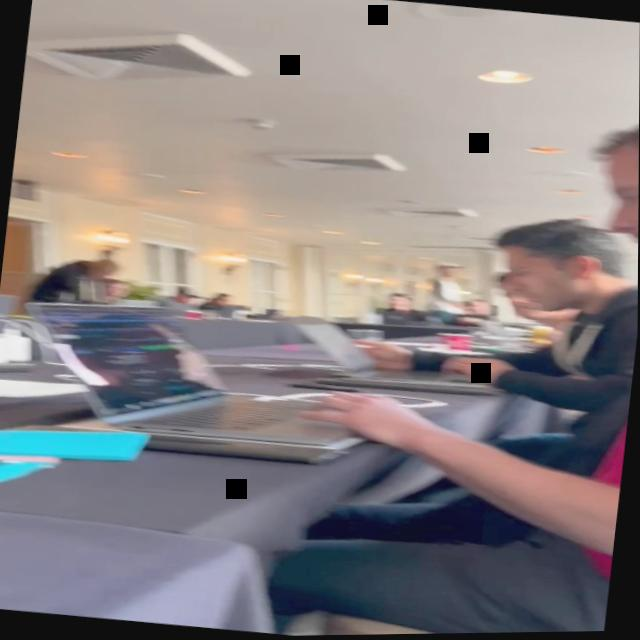NO-Mask: (499, 247, 578, 317), (598, 142, 639, 267), (499, 277, 555, 323), (108, 280, 129, 298), (92, 267, 114, 283), (388, 296, 408, 311), (439, 266, 458, 281), (215, 294, 232, 308), (467, 302, 485, 315), (176, 293, 194, 306)
